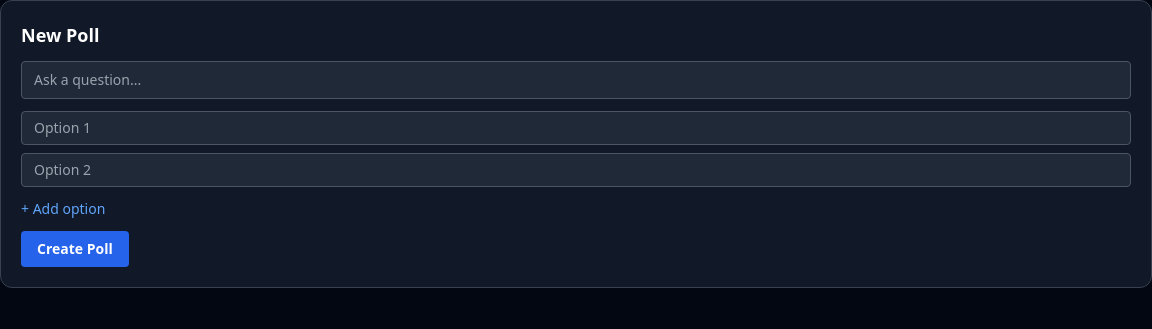
Test: CreatePoll › shows API error message on failed submit
Type "Test question?" into the field with placeholder "Ask a question..." at (576, 80), box [21, 61, 1131, 99]
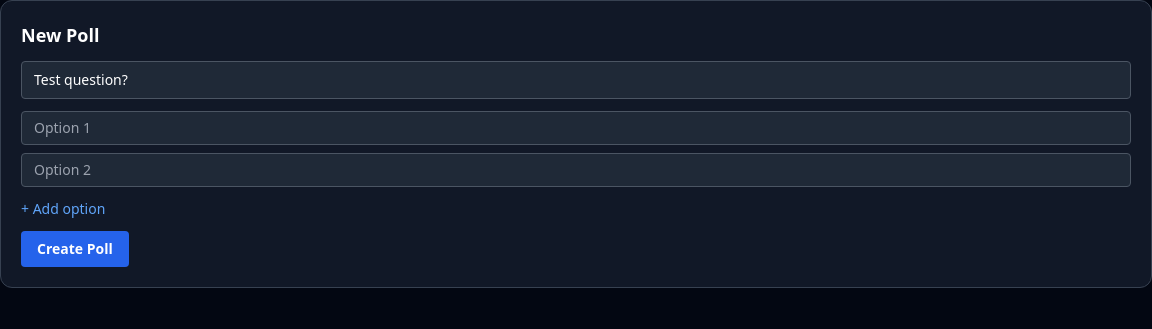
Type "Yes" into the field with placeholder "Option 1" at (576, 128), box [21, 111, 1131, 145]
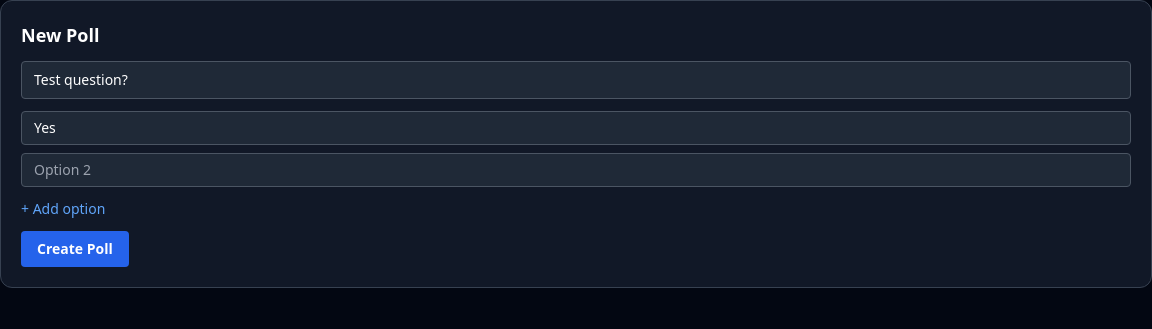
Type "No" into the field with placeholder "Option 2" at (576, 170), box [21, 153, 1131, 187]
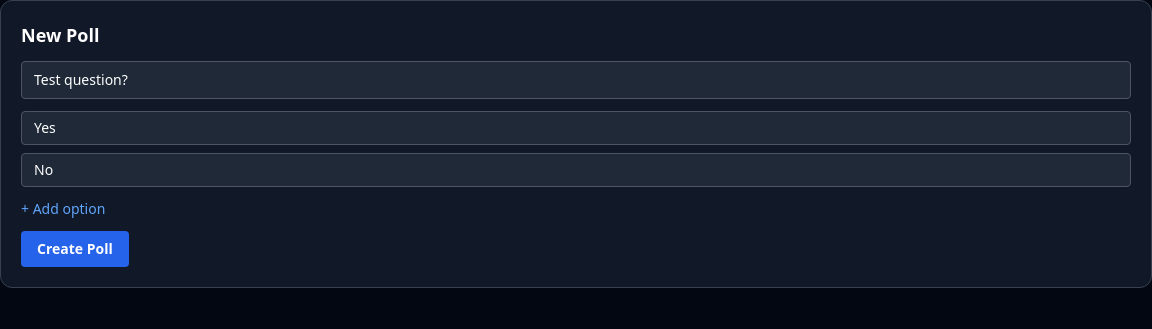
Submit the text "Create Poll"
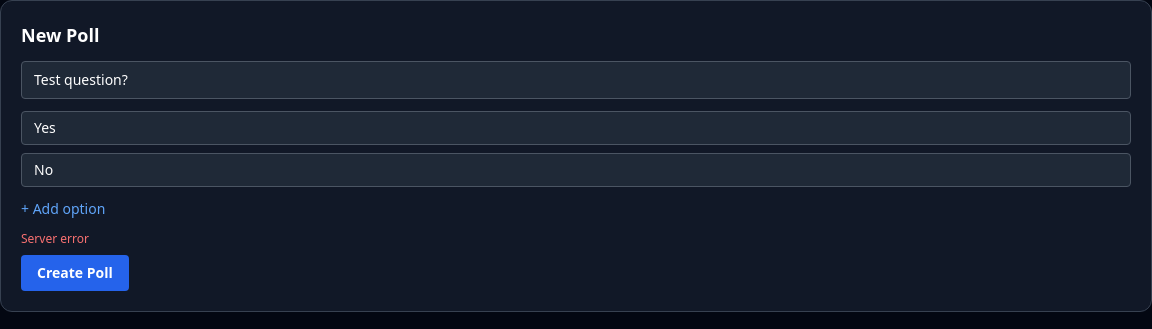
Result: the text "Server error" is shown at [21, 230, 89, 247]
